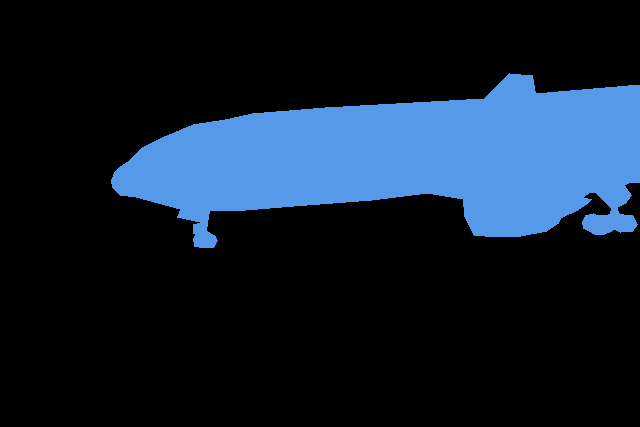Airplane: (111, 73, 640, 247)
